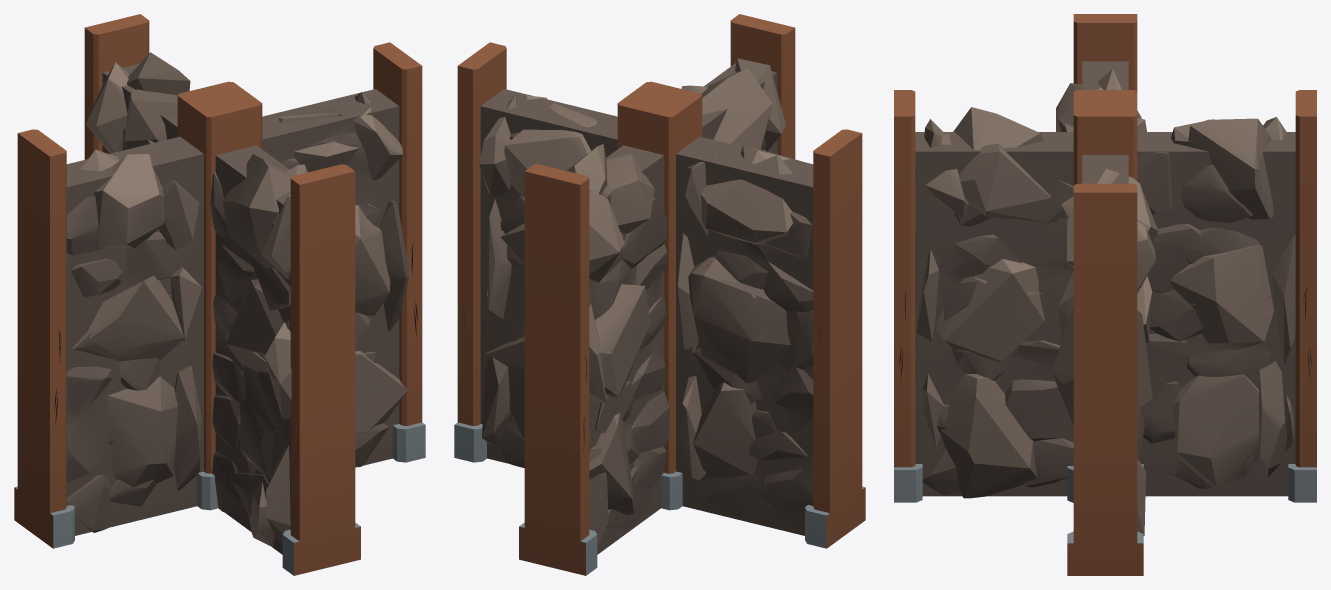
Rendered from wall_cave_crossing_A.glb.
3 renders of one model, left to right at view 1: azimuth 30°, elevation 25°; view 2: azimuth 150°, elevation 25°; view 3: azimuth 270°, elevation 25°, orthographic.
Parts seen in each view (by area): view 1: Item; view 2: Item; view 3: Item.
Boxes of the visible parts, left/top/right/bottom form: Item: left=14, top=14, right=425, bottom=575; Item: left=454, top=14, right=865, bottom=575; Item: left=894, top=14, right=1316, bottom=575.
Bounding box in the file's own units: 4 × 4 × 4.
1 material, 1 textured.
